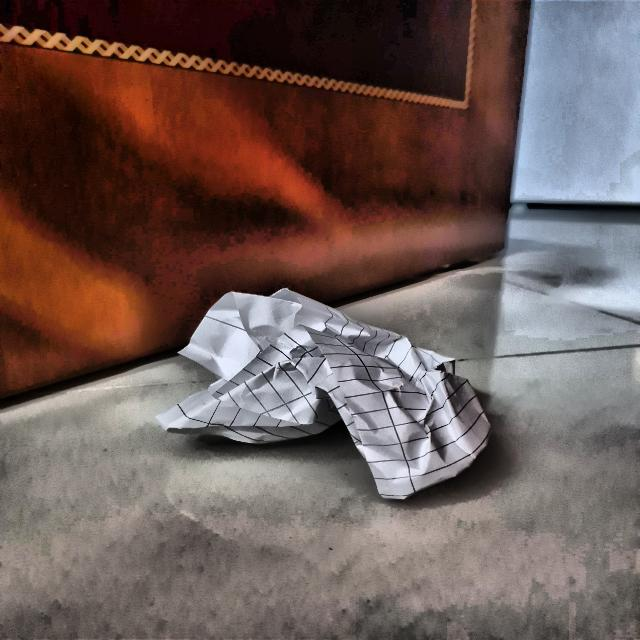Paper: (168, 283, 495, 504)
